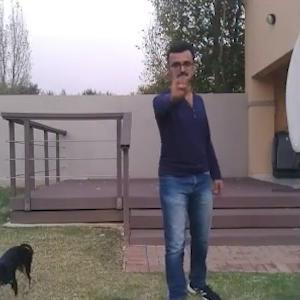takeoff-hand: (167, 62, 194, 102)
